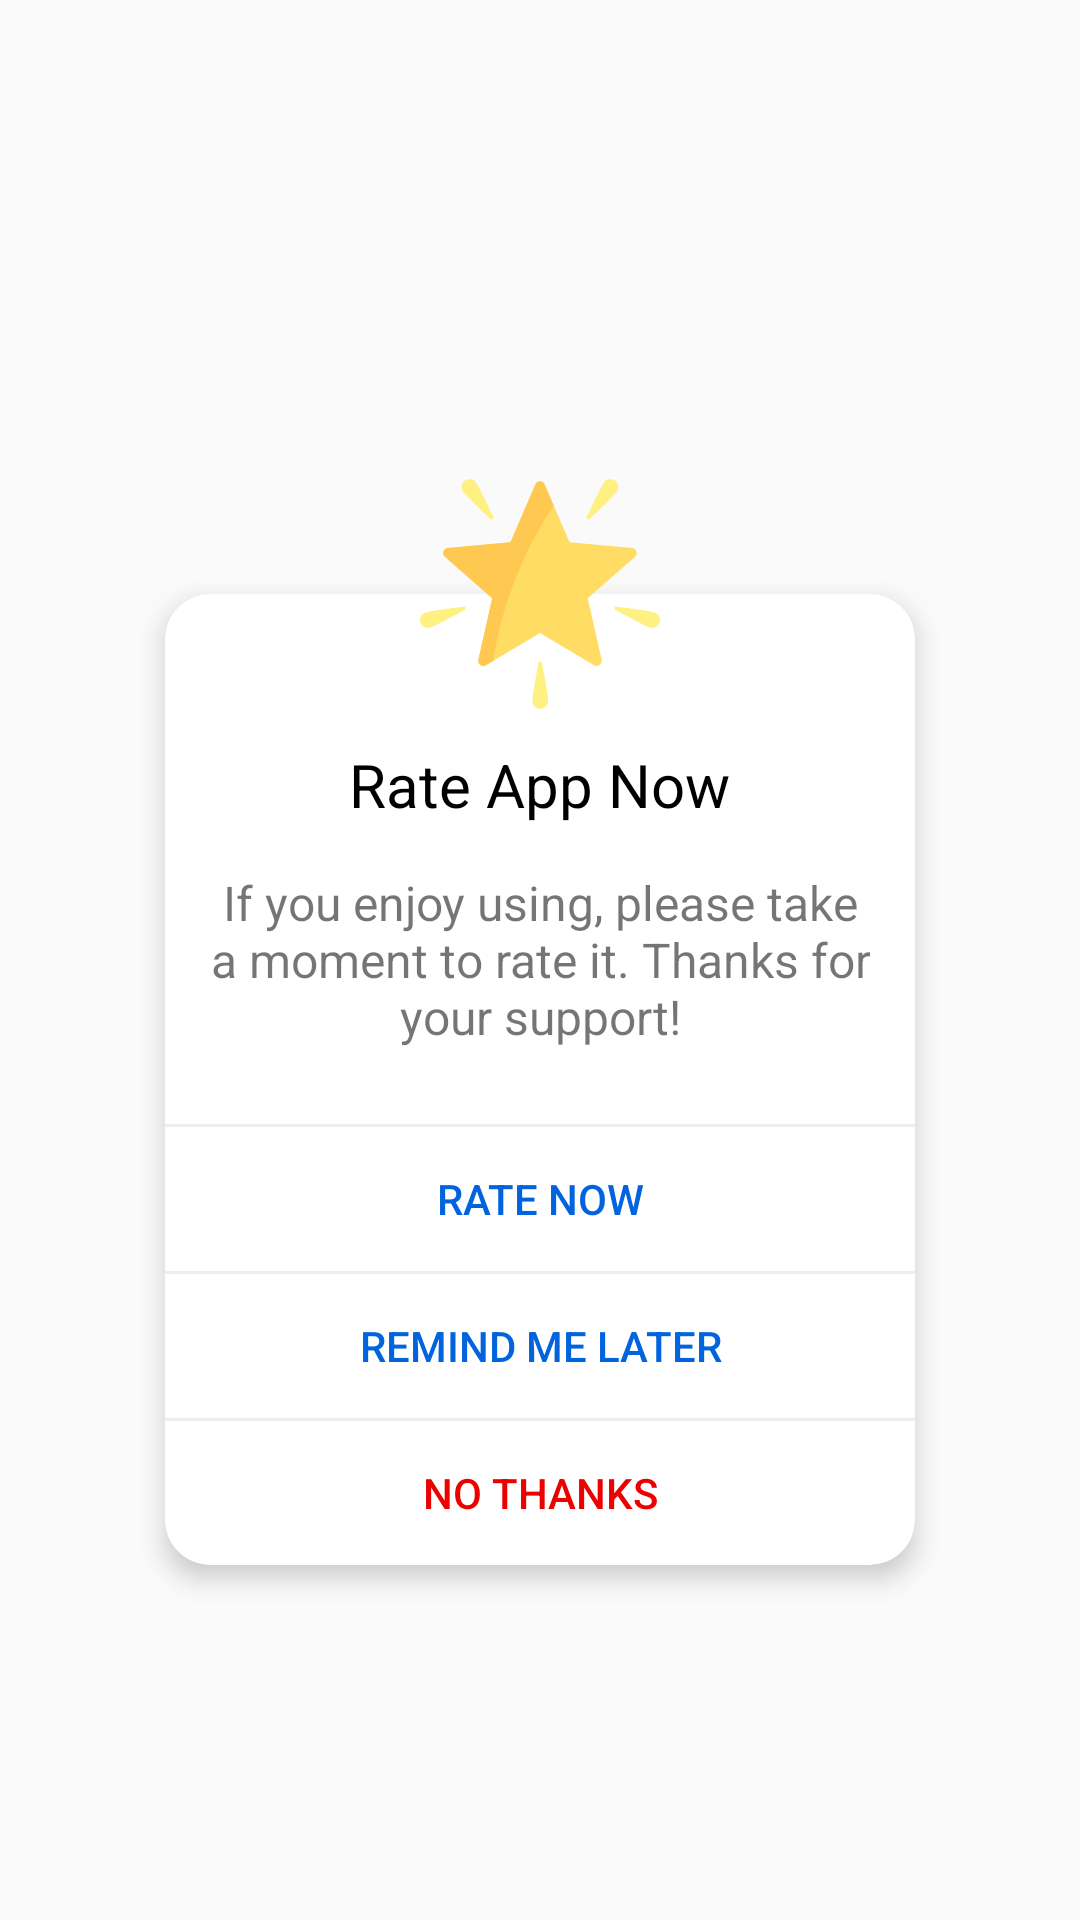

Where to tap for icons on this 1080w x 1920h app screen, as point (x, y):
star: point (540, 594)
